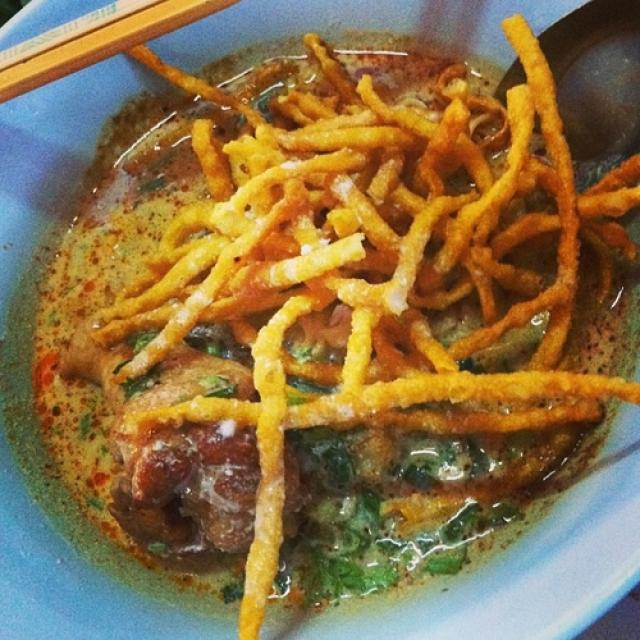面条主食: (19, 32, 620, 618)
